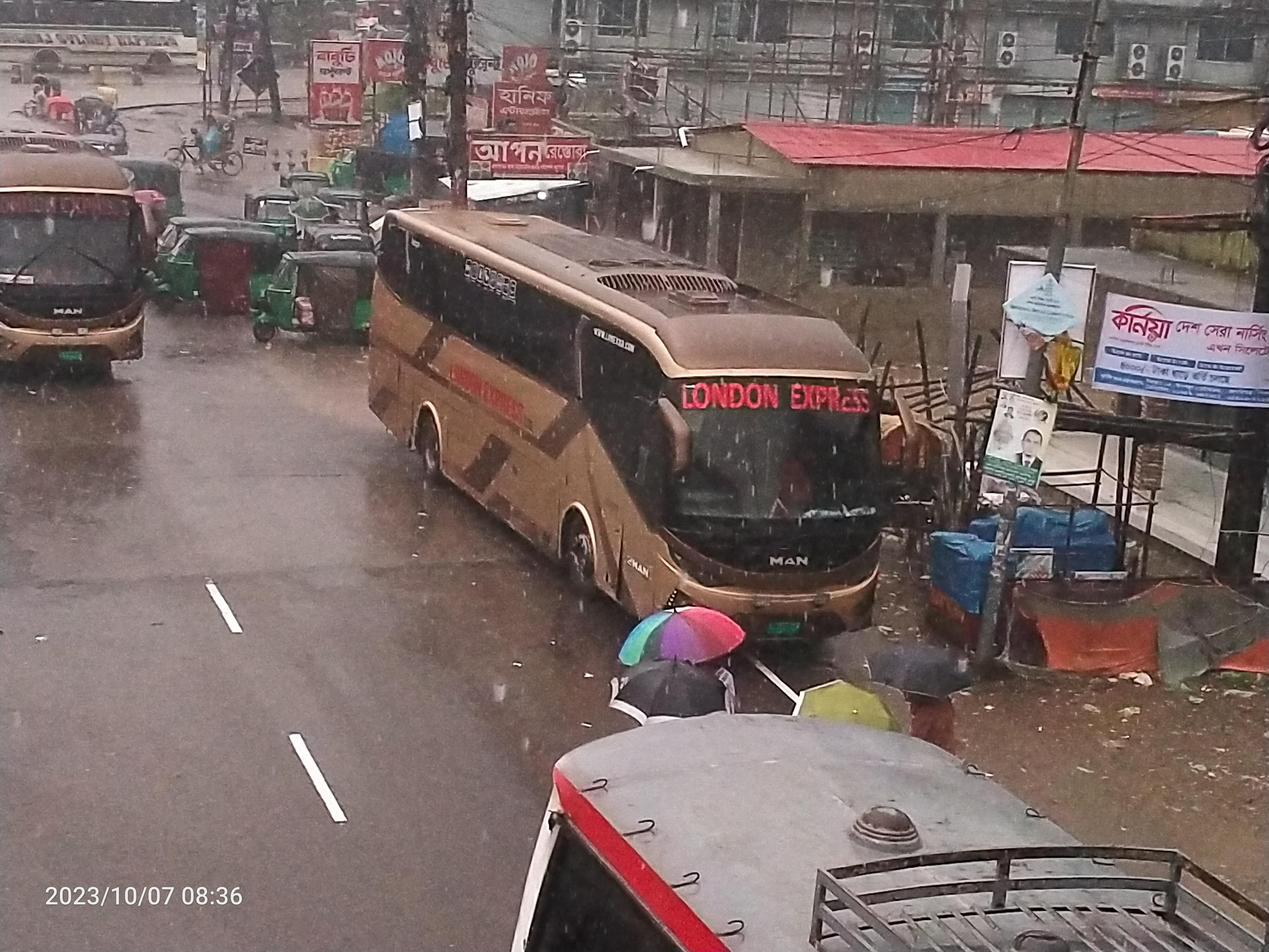Bus: (334, 174, 918, 672), (479, 683, 1269, 952), (0, 122, 184, 421), (0, 0, 234, 93)
Car: (154, 87, 257, 172), (50, 81, 143, 152)
